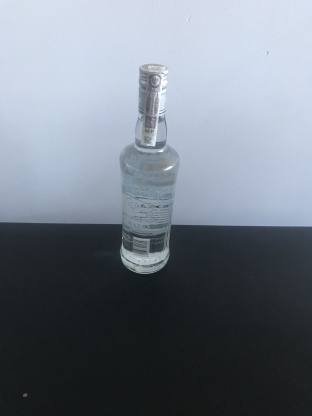nakretka: (136, 60, 170, 117)
